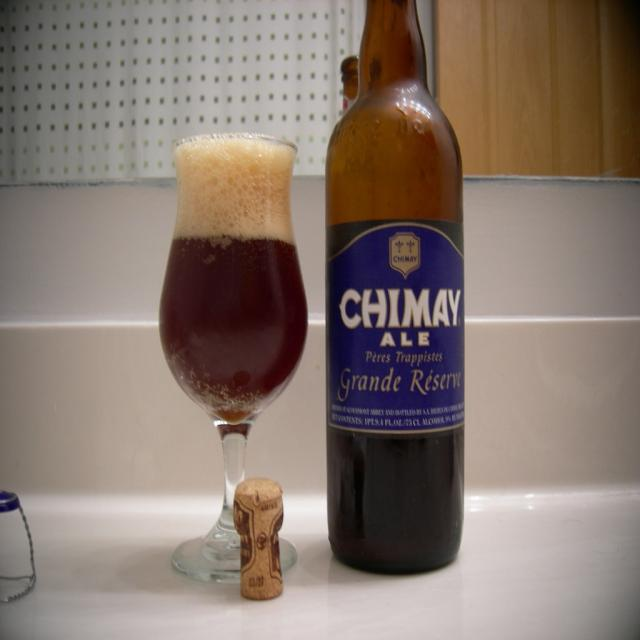chimay: (326, 223, 466, 436)
